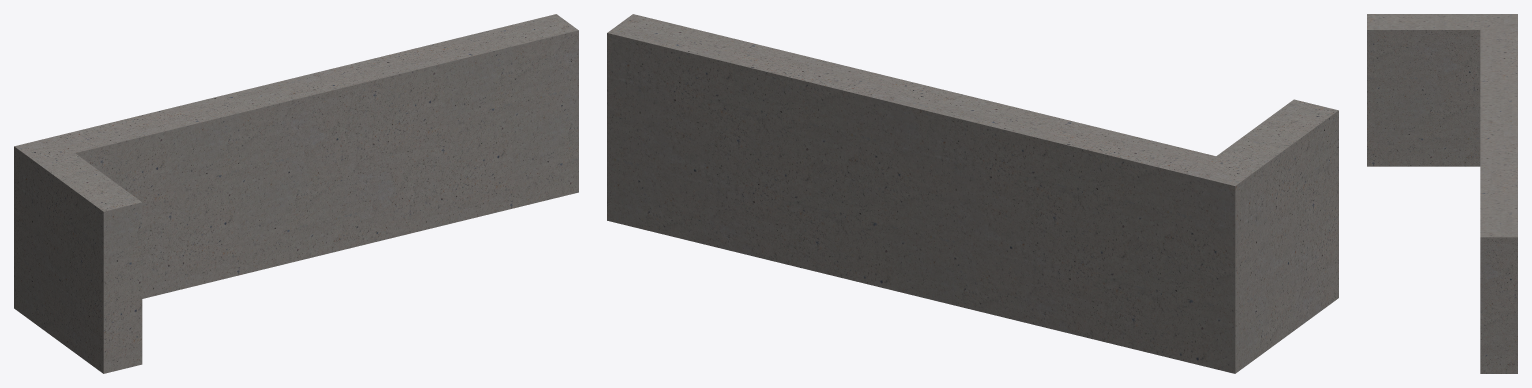
File: ExtConcreteWall2.fbx
3 views of the same model, side by side, from view 1: azimuth 30°, elevation 25°; view 2: azimuth 150°, elevation 25°; view 3: azimuth 270°, elevation 25° (orthographic). The views are drawn at different scales.
Parts seen in each view (by area): view 1: ExtWall2; view 2: ExtWall2; view 3: ExtWall2.
Boxes of the visible parts, x1,y1,x2,y2 form: ExtWall2: (14, 14, 578, 373); ExtWall2: (607, 14, 1338, 373); ExtWall2: (1367, 14, 1517, 373).
Size of the model in its own units: 14 by 4 by 4.
Materials: 1 (1 with a texture image).
